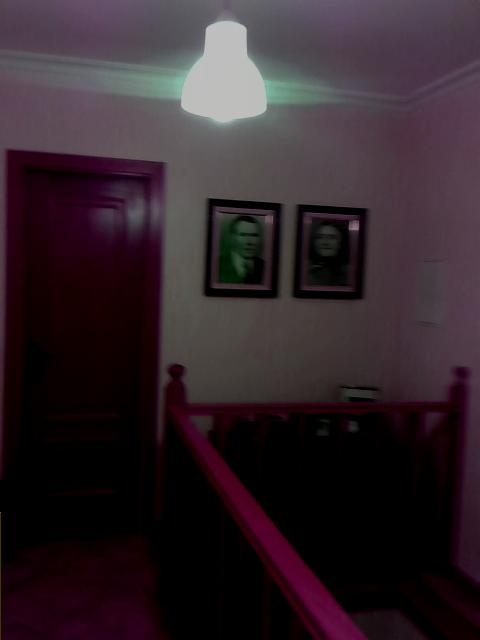closed_door: (2, 148, 165, 536)
